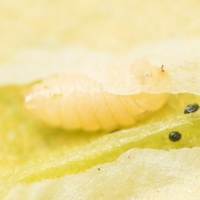insect: (184, 104, 198, 113), (169, 131, 180, 141), (161, 65, 164, 71)
